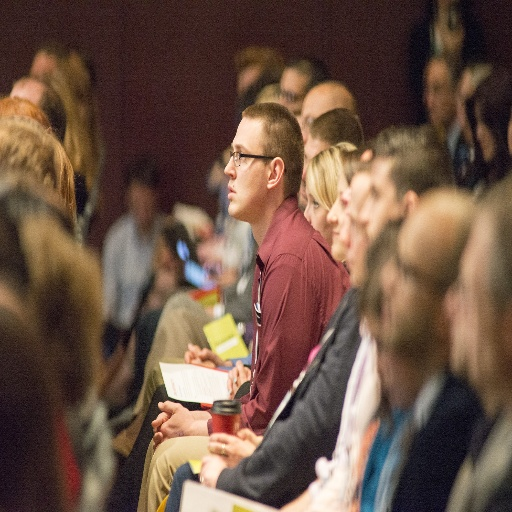hand: (206, 431, 256, 465), (153, 398, 190, 434), (184, 342, 231, 368), (184, 345, 226, 371), (197, 451, 226, 486), (228, 357, 251, 401), (226, 362, 251, 395), (150, 408, 170, 449), (235, 424, 258, 446)
